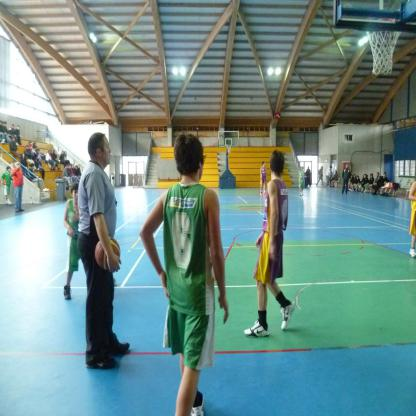Ball: (95, 236, 121, 272)
